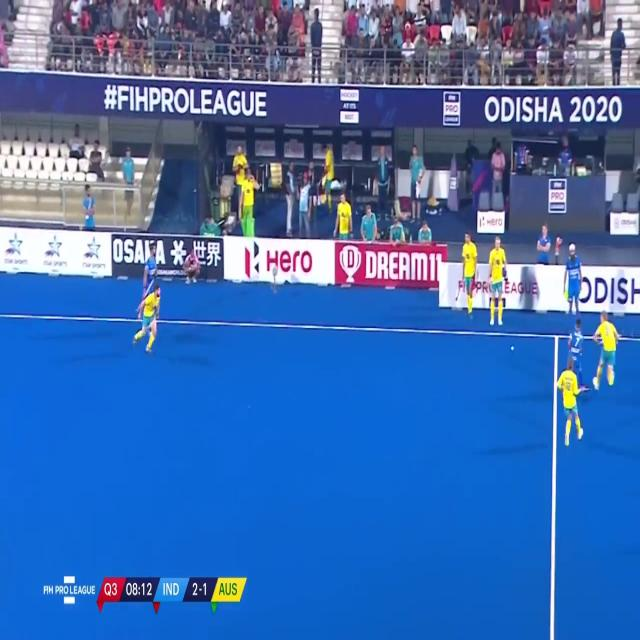ball: (509, 342, 515, 353)
